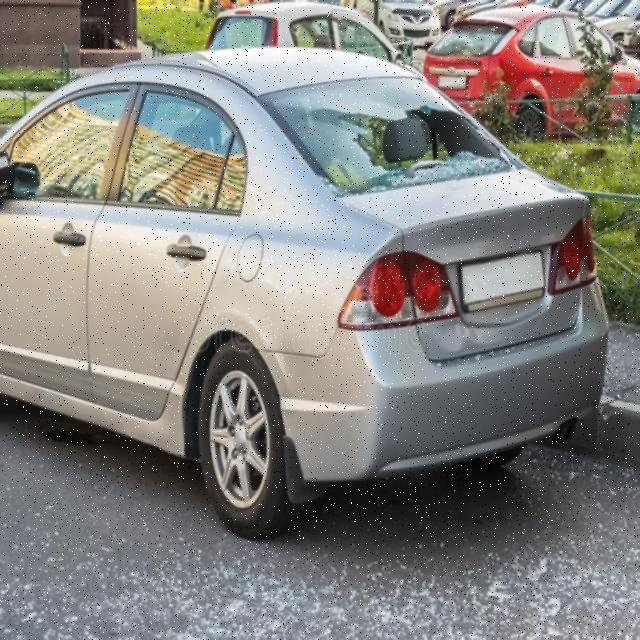Rear-windscreen-Damage: (268, 79, 530, 228)
